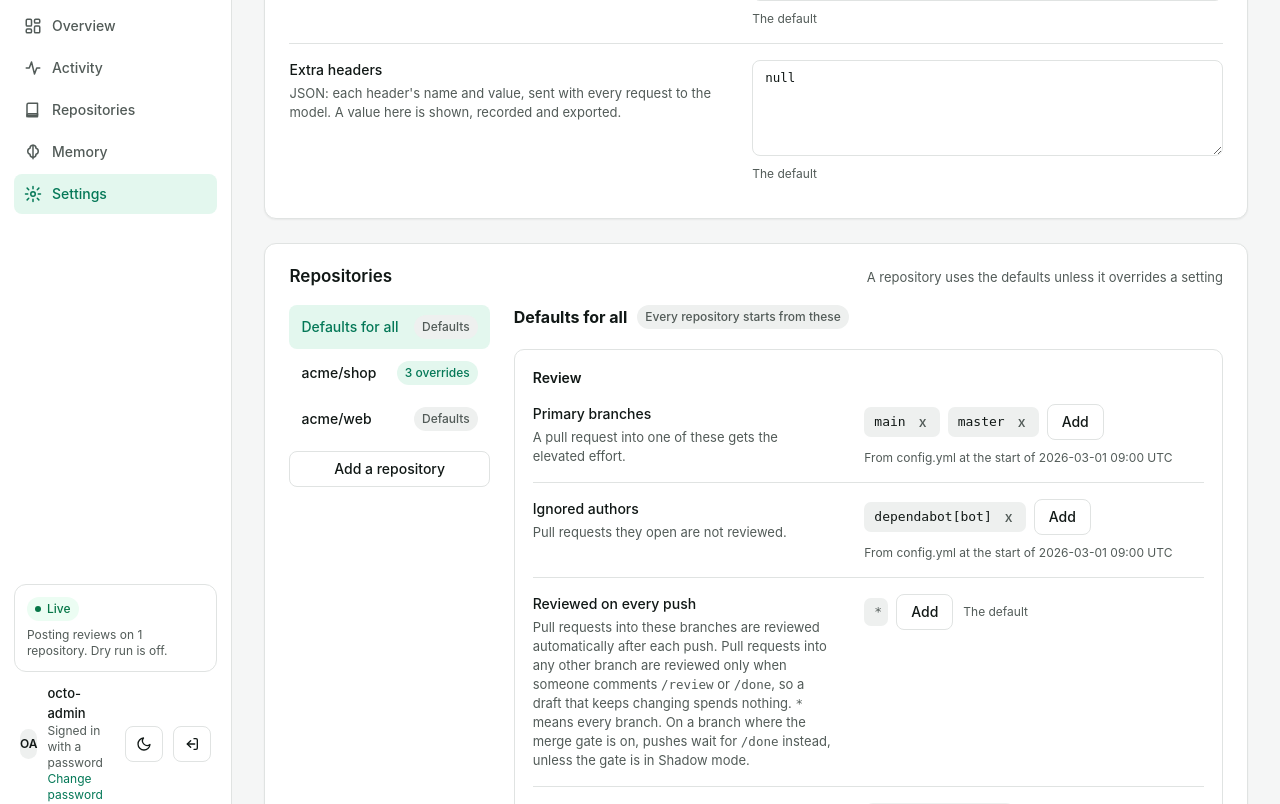
Test: the repositories are listed with their overrides, the defaults first
(page scrolled)
Expected: the button "Add a repository" is shown, [290, 451, 490, 487]
Expected: the text "Every repository starts from these" is shown, [637, 305, 849, 329]
Click the option "acme/shop 3 overrides".
click(390, 373)  # box [290, 351, 490, 395]
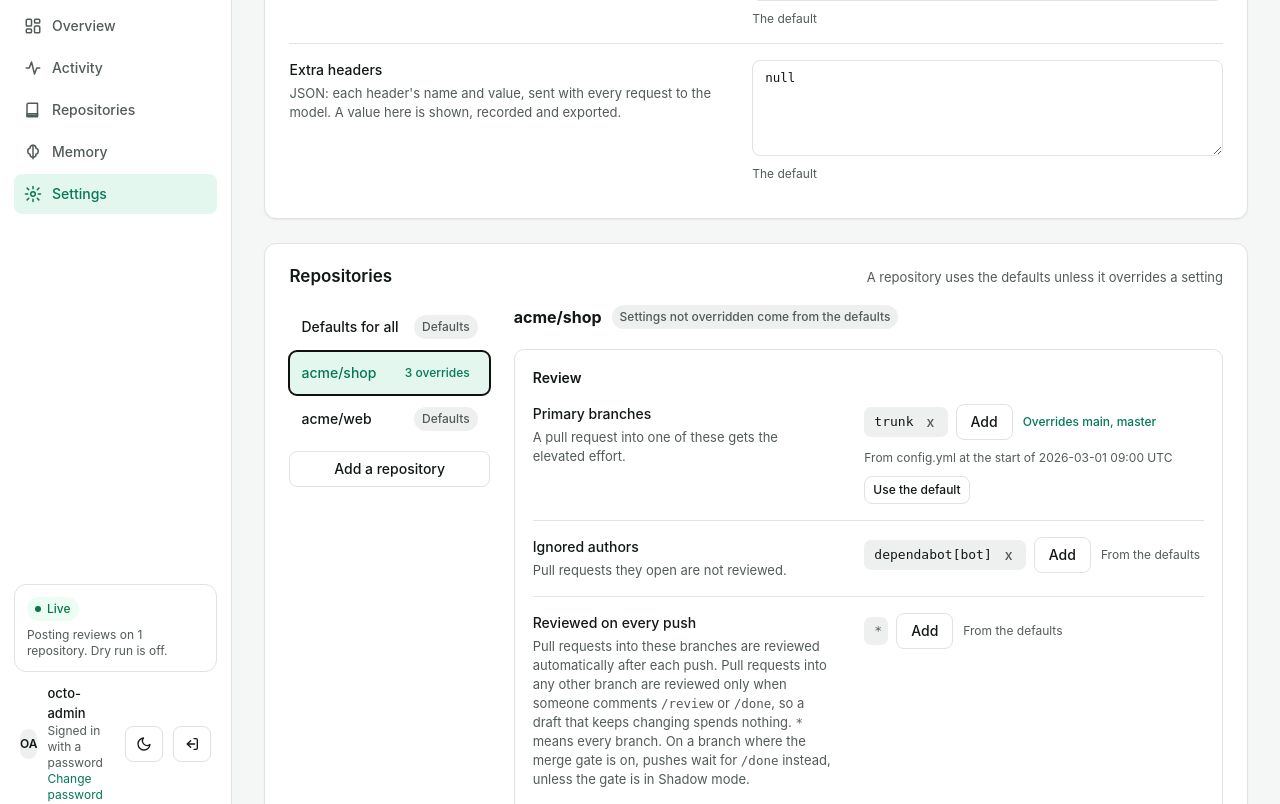
Now the text "Settings not overridden come from the defaults" is shown, box [612, 305, 898, 329]
